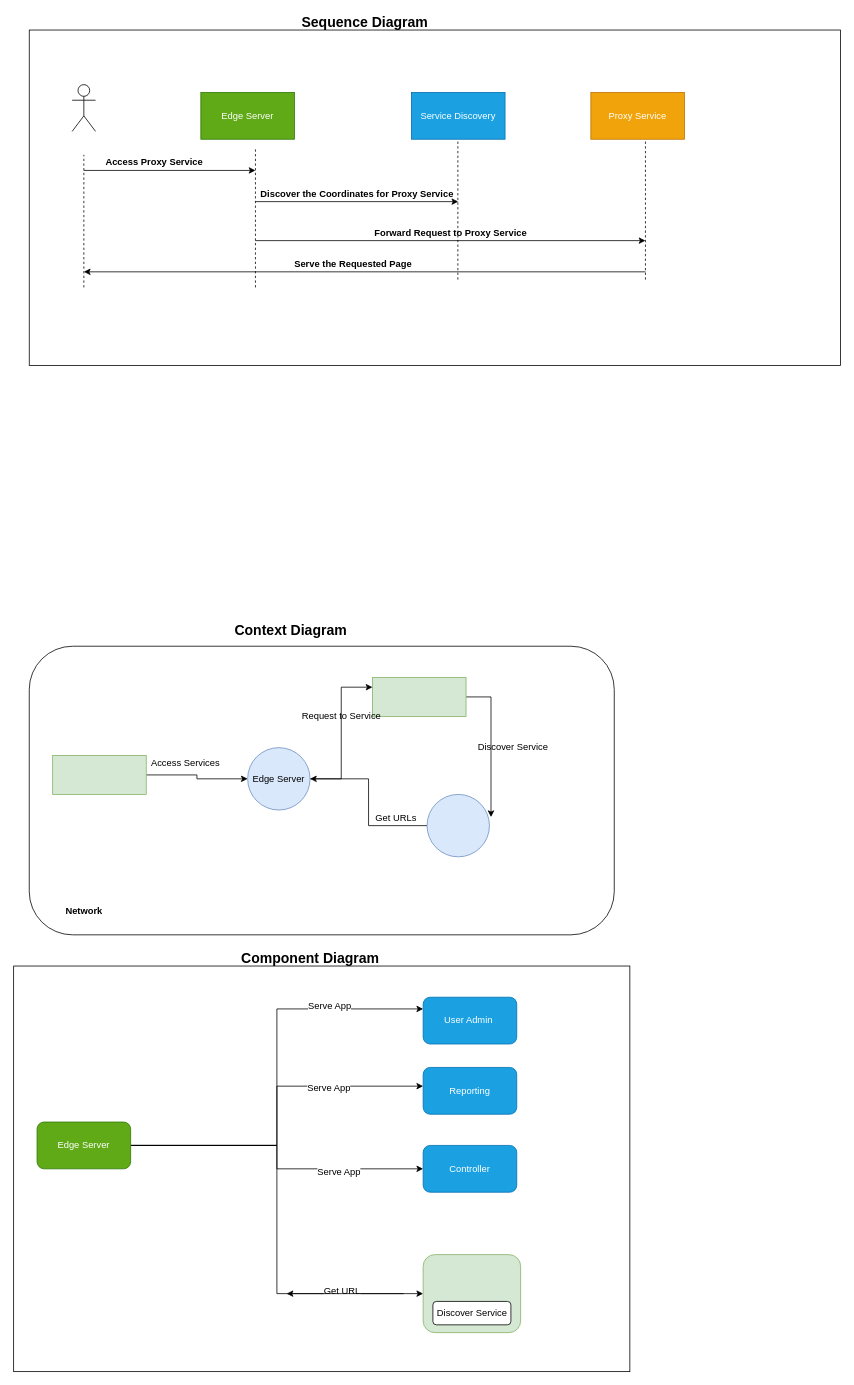
This 854x1385 diagram has some shape labels left out. The shapes that lost their labels are listed below. From the top down, each one's box as (x1, y1, x2, y2) in pixels, then its label:
(71, 84, 96, 131): Actor
(372, 677, 466, 716): IT Services
(52, 755, 146, 794): User
(426, 794, 489, 857): Config Management
(422, 1254, 521, 1333): Configuration
